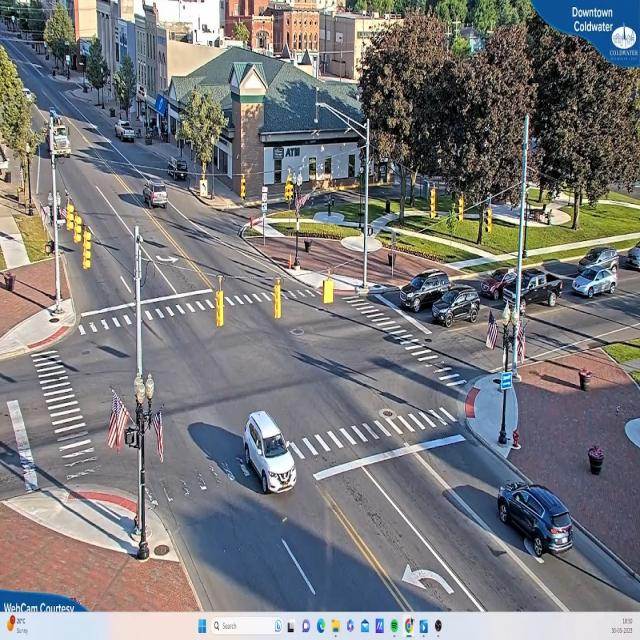car: (496, 481, 577, 561), (244, 411, 298, 496), (493, 270, 562, 307), (401, 272, 455, 314), (432, 290, 480, 328), (572, 268, 618, 299), (141, 175, 171, 217), (118, 121, 138, 143), (620, 248, 639, 270)
